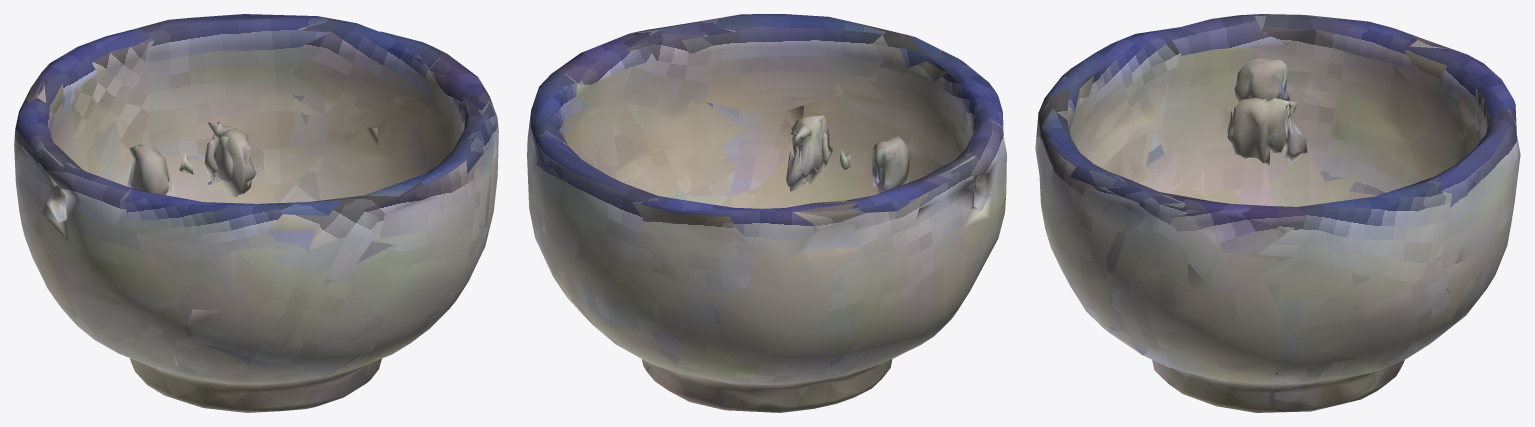
File: KR_사물_s1_item_empty_bowl.glb
3 views of the same model, side by side, from view 1: azimuth 30°, elevation 25°; view 2: azimuth 150°, elevation 25°; view 3: azimuth 270°, elevation 25° (orthographic).
Parts seen in each view (by area): view 1: tripo_node_e7c1c238-bffa-407c-9ac6-1a285e658a2b; view 2: tripo_node_e7c1c238-bffa-407c-9ac6-1a285e658a2b; view 3: tripo_node_e7c1c238-bffa-407c-9ac6-1a285e658a2b.
Boxes of the visible parts, x1,y1,x2,y2 form: tripo_node_e7c1c238-bffa-407c-9ac6-1a285e658a2b: (14,14,498,412); tripo_node_e7c1c238-bffa-407c-9ac6-1a285e658a2b: (527,14,1006,412); tripo_node_e7c1c238-bffa-407c-9ac6-1a285e658a2b: (1035,14,1520,412).
Bounding box in the file's own units: 0.9955 × 0.5773 × 1.
Materials: 1 (1 with a texture image).
